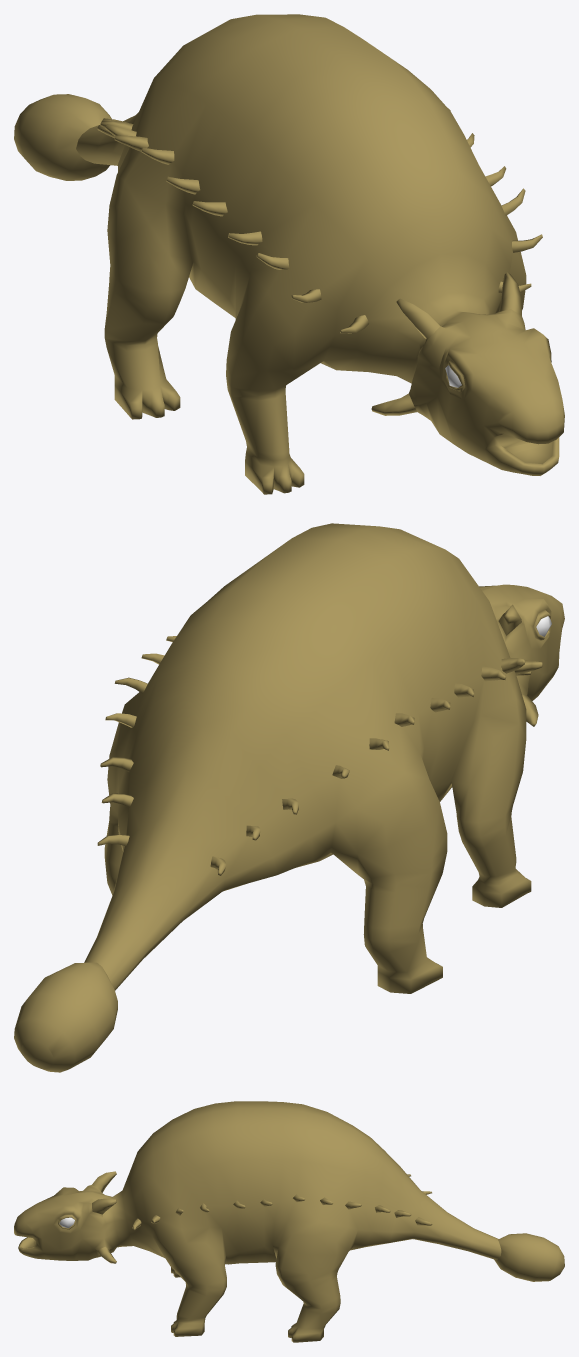
File: anquilosaurus_detailed.FBX
3 views of the same model, one above another, from view 1: azimuth 30°, elevation 25°; view 2: azimuth 150°, elevation 25°; view 3: azimuth 270°, elevation 25° (orthographic). The views are drawn at different scales.
Parts seen in each view (by area): view 1: Box001; view 2: Box001; view 3: Box001.
Part boxes in pixels (bbox=[...]): Box001: bbox=[14, 14, 564, 494]; Box001: bbox=[14, 523, 564, 1072]; Box001: bbox=[14, 1101, 564, 1342].
Size of the model in its own units: 84.26 by 91.46 by 236.
